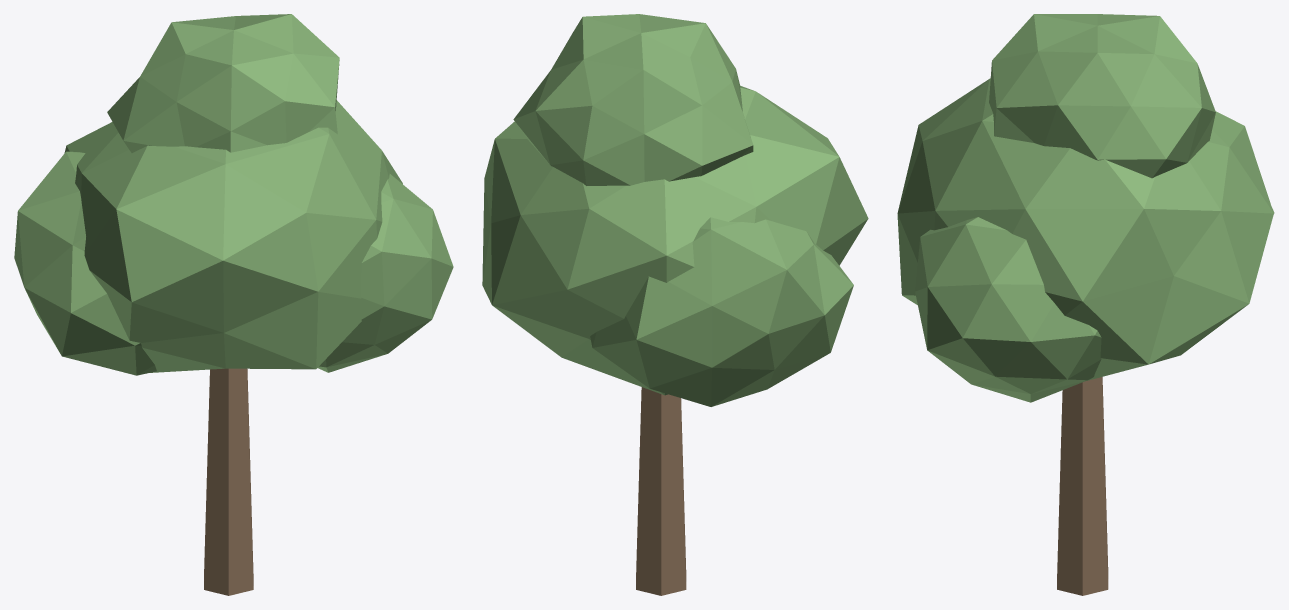
Rendered from tree.glb.
The picture shows the model from 3 angles, left to right: view 1: azimuth 30°, elevation 25°; view 2: azimuth 150°, elevation 25°; view 3: azimuth 270°, elevation 25°; orthographic projection. The views are drawn at different scales.
Parts seen in each view (by area): view 1: tree; view 2: tree; view 3: tree.
Boxes of the visible parts, box(x1,y1,x2,y2) form: tree: box(14, 14, 453, 595); tree: box(482, 14, 868, 595); tree: box(897, 14, 1274, 595).
Size of the model in its own units: 2.88 by 4.21 by 2.54.
